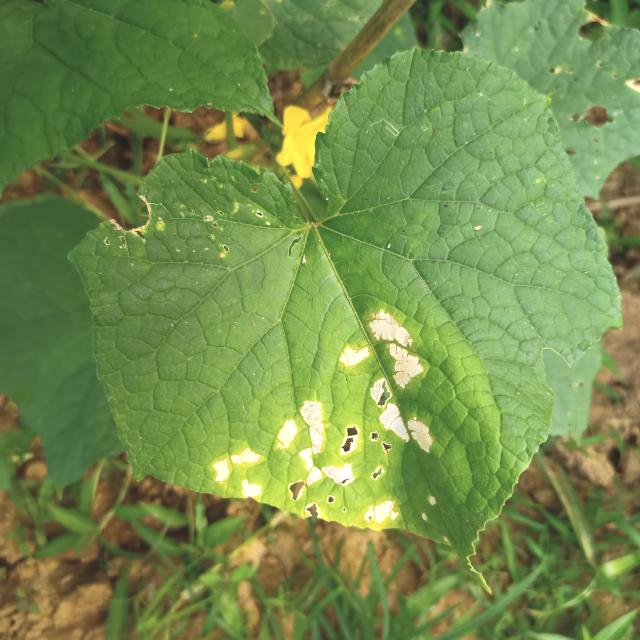disease_cucumber: (209, 296, 443, 529)
